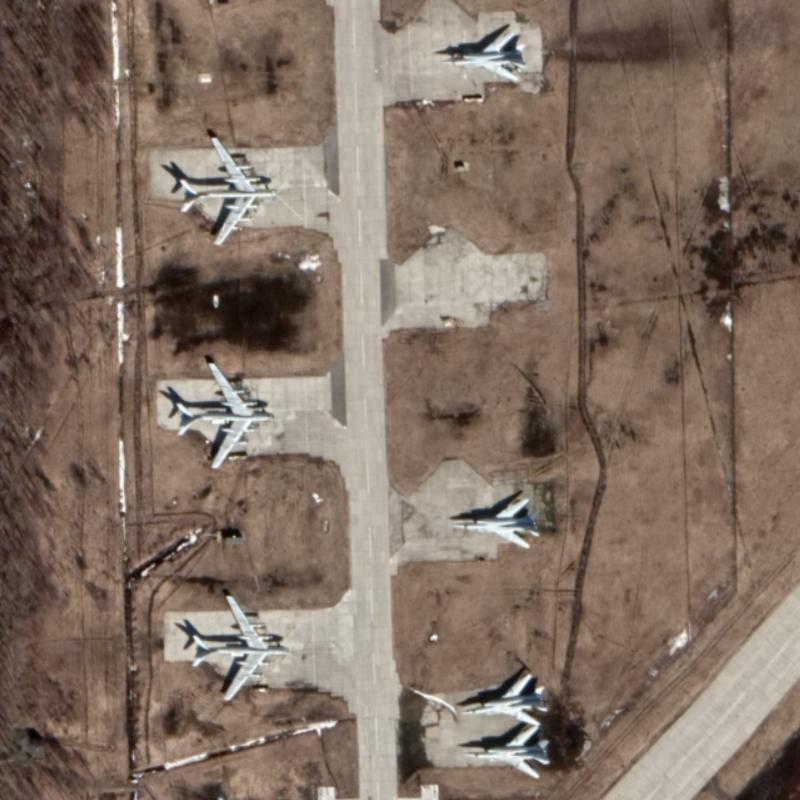A12: (459, 671, 549, 727), (463, 723, 551, 780), (450, 495, 541, 550), (439, 28, 529, 83)
A17: (177, 134, 280, 247), (189, 591, 291, 702), (174, 359, 275, 469)
